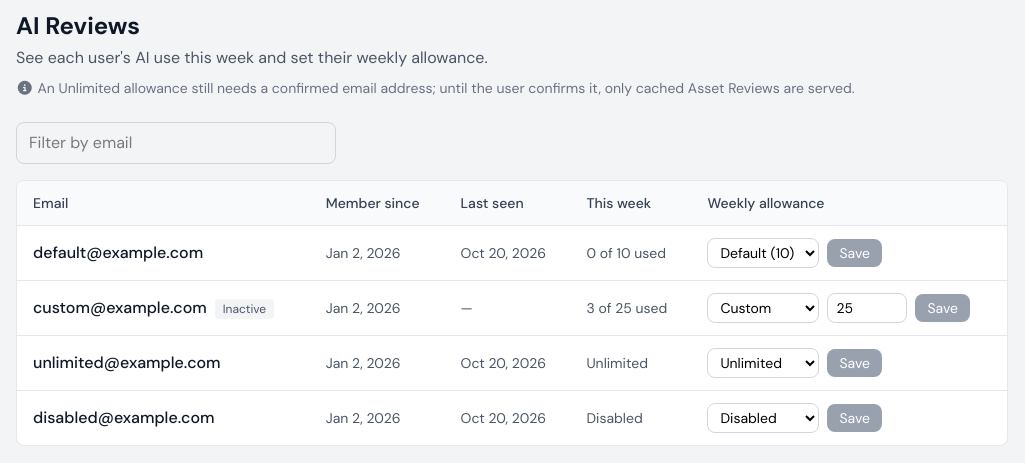
it: admin AI Reviews page › disables Save until the allowance changes
expect the button "Save" in the row of "default@example.com" is disabled: met, box [827,239,882,267]
Select "Unlimited" in the dropdown named "Allowance for default@example.com": point(763, 253) [707,238,819,268]
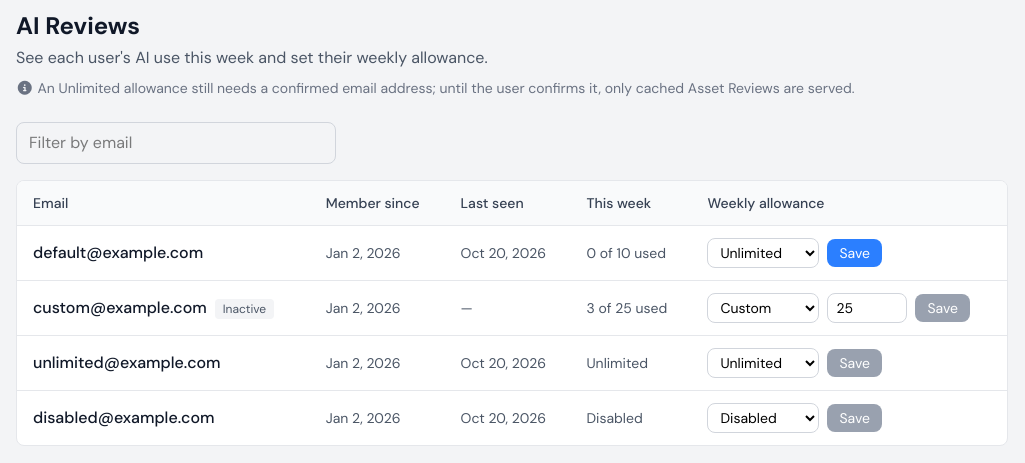
expect the button "Save" in the row of "default@example.com" is enabled: met, box [827,239,882,267]
